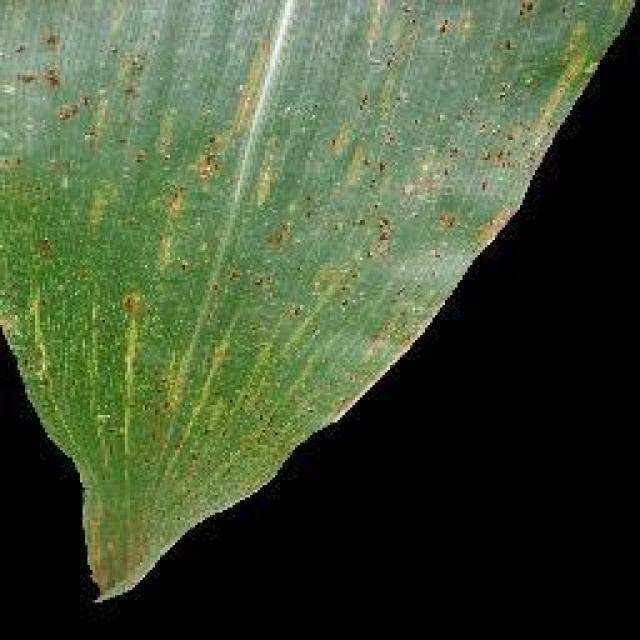Corn Common Rust: (0, 0, 482, 560)
